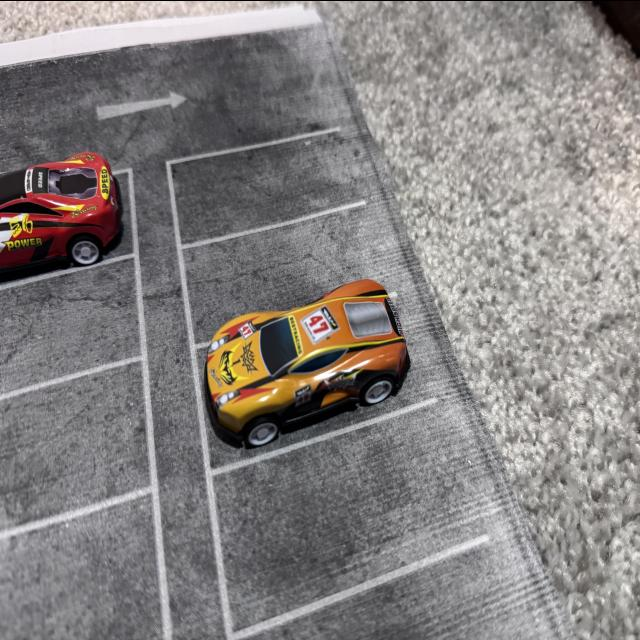Car: (128, 218, 424, 542), (0, 136, 171, 392)
